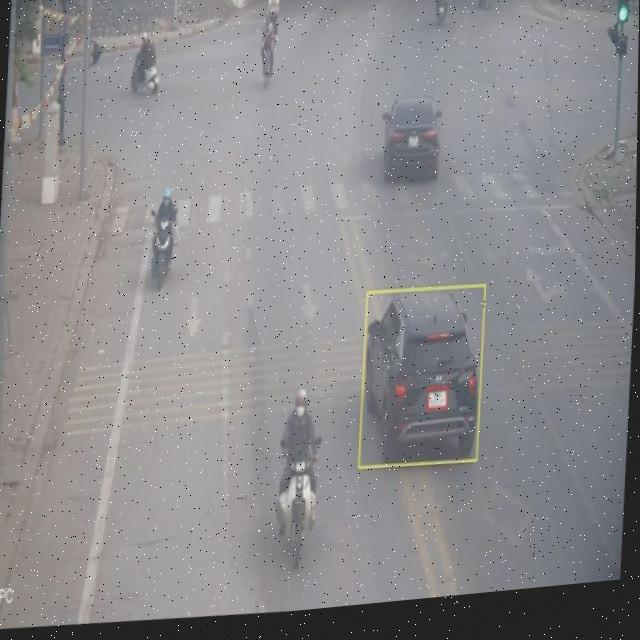Green: (618, 0, 631, 39)
